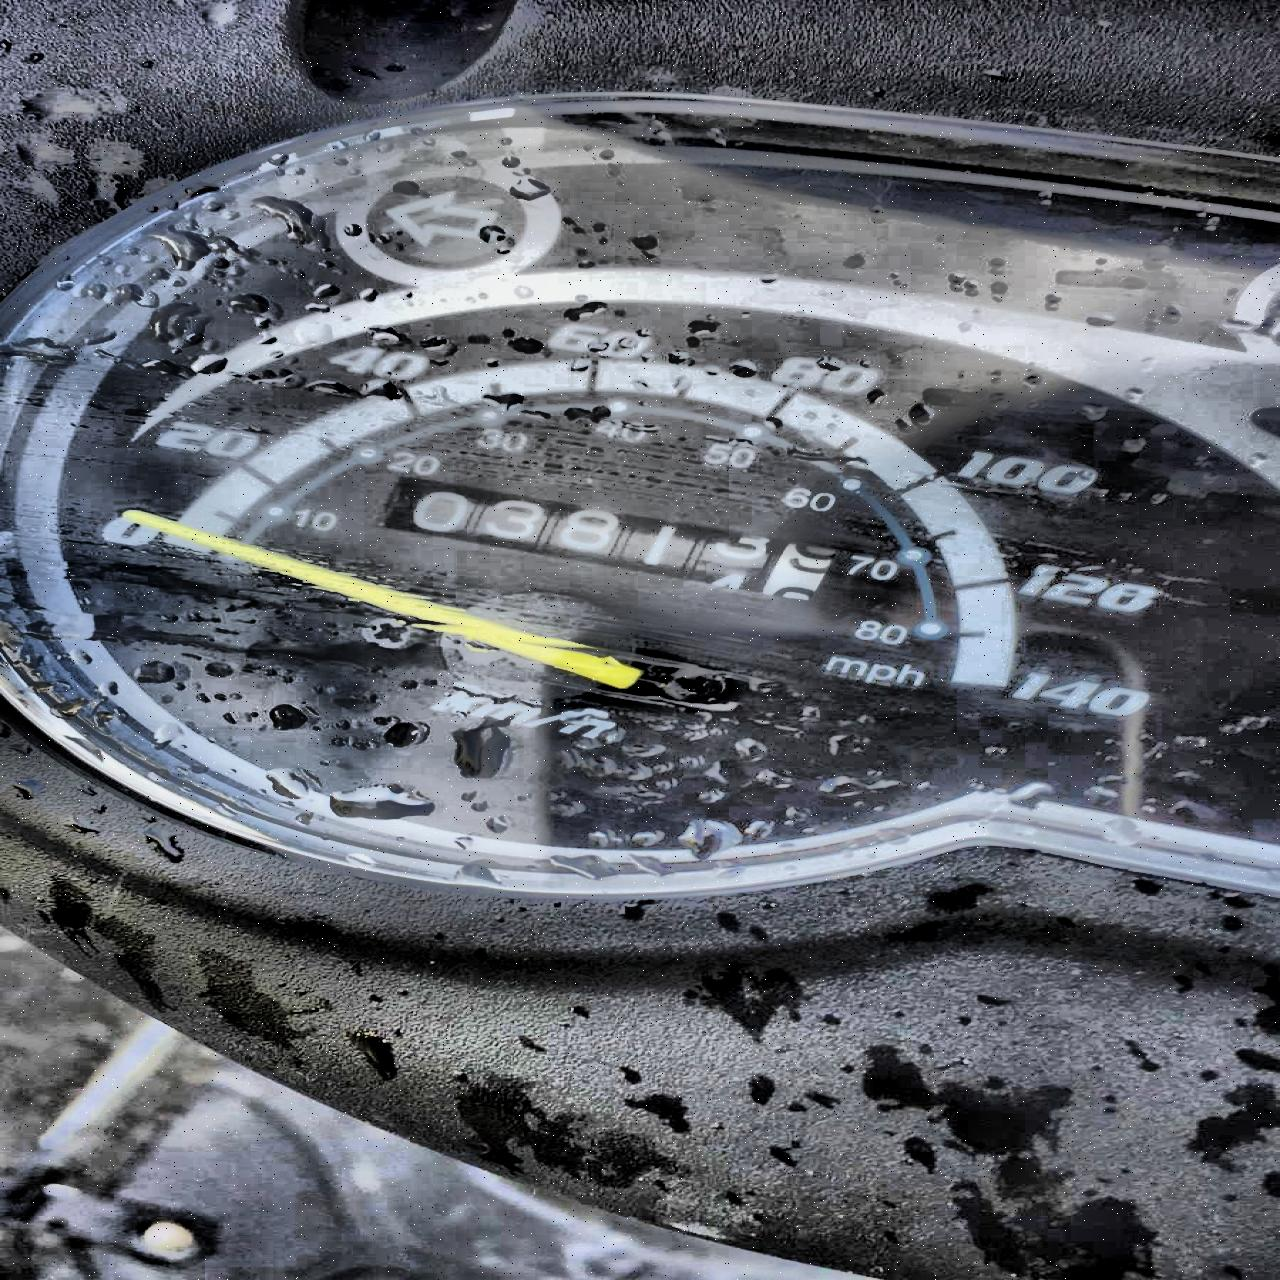0: (410, 490, 467, 531), (809, 491, 835, 512)
1: (639, 525, 675, 565)
3: (713, 519, 771, 559), (484, 499, 542, 538)
6: (782, 486, 809, 508)
8: (557, 506, 618, 551)
9: (788, 535, 839, 574)
odometer: (369, 472, 840, 605)
